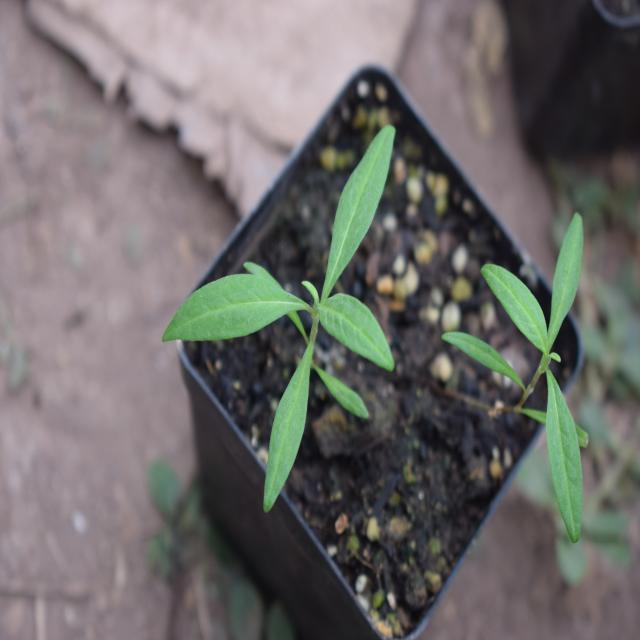white_smart_weed: (144, 77, 434, 464), (464, 215, 612, 544)
